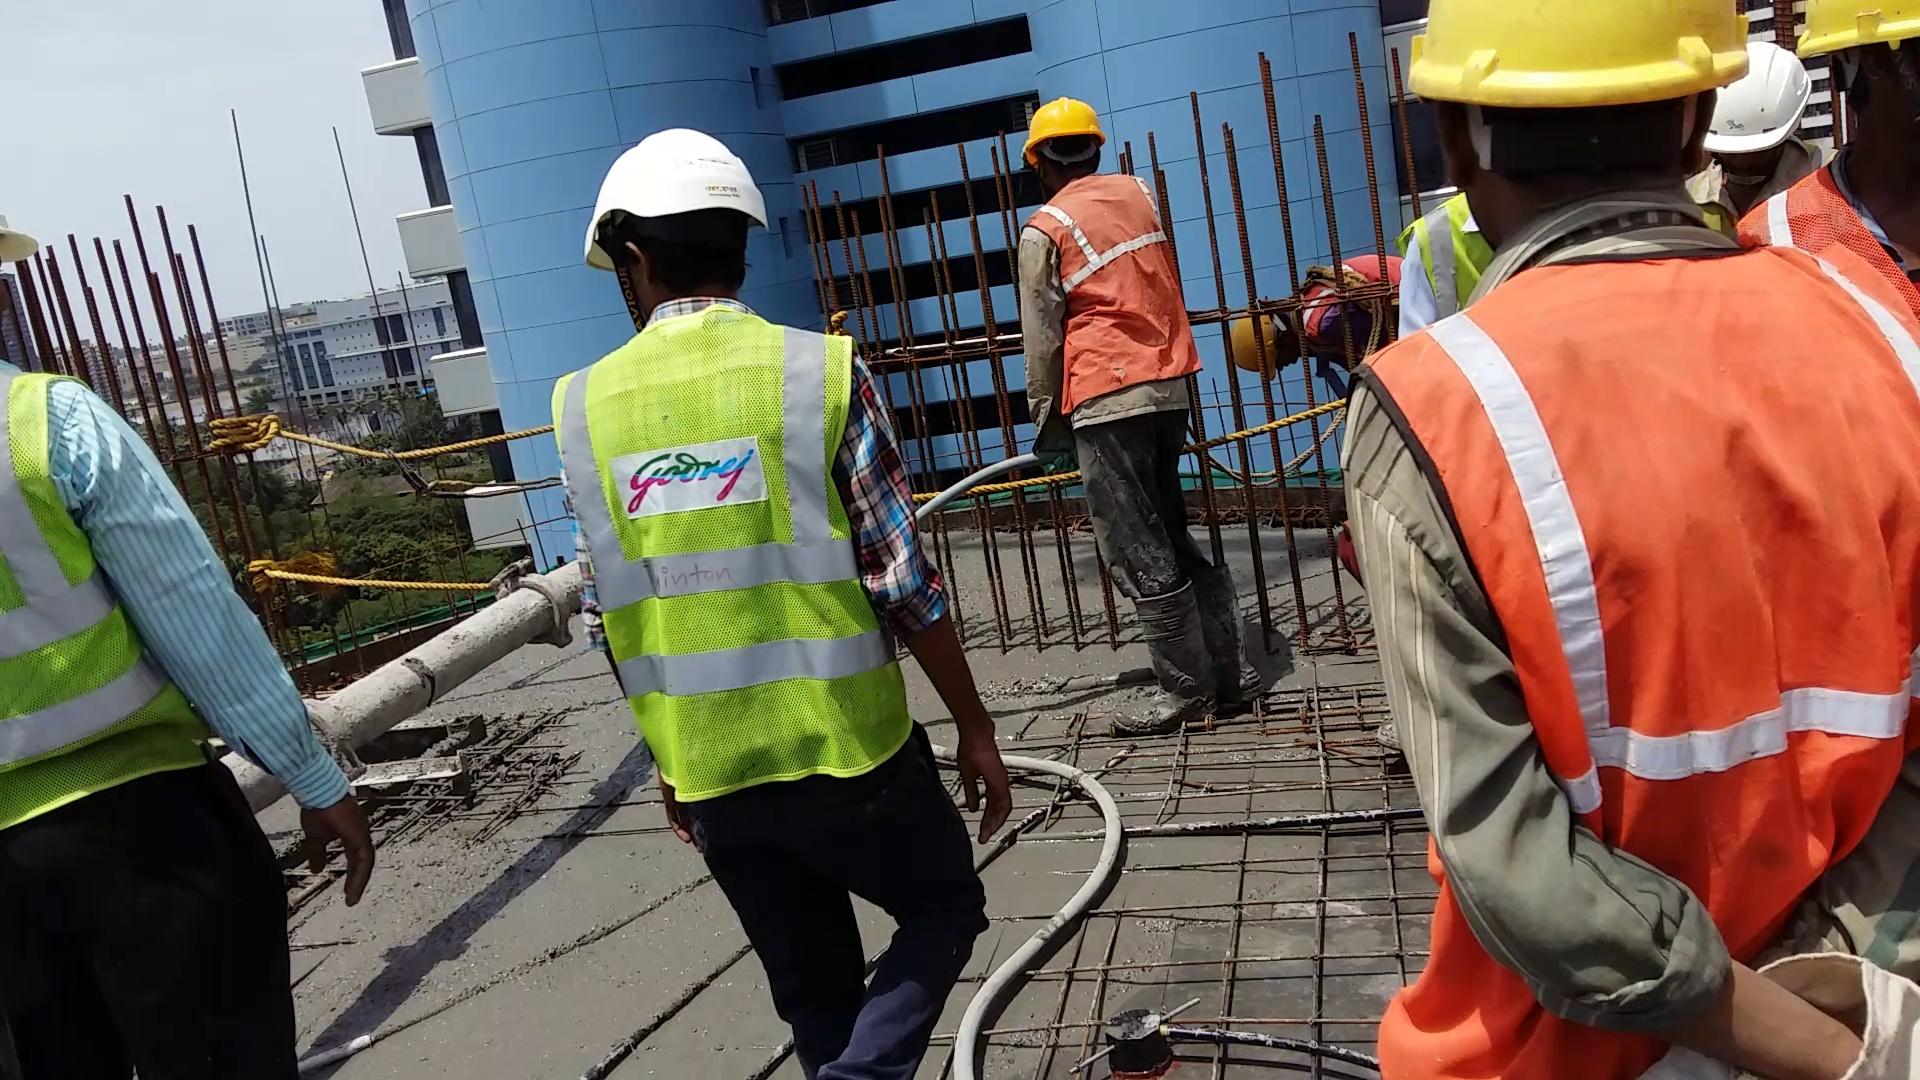SAFE: (1437, 5, 1865, 1007), (551, 127, 887, 793), (1014, 94, 1193, 421)
